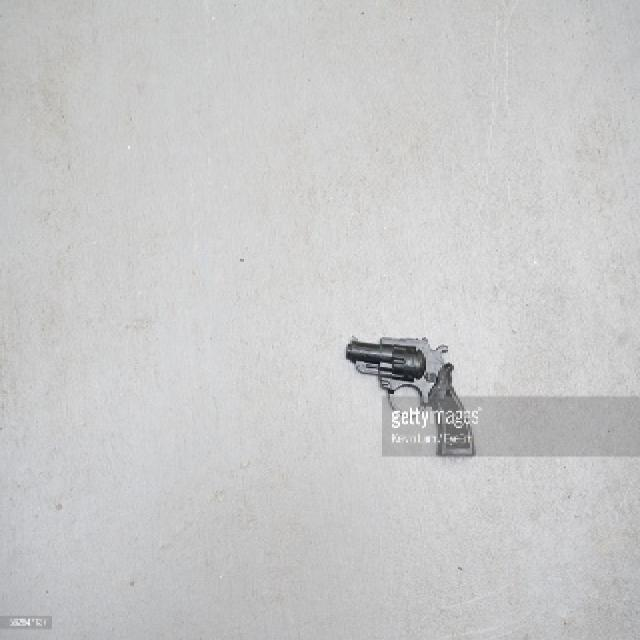weapon: (334, 331, 486, 458)
